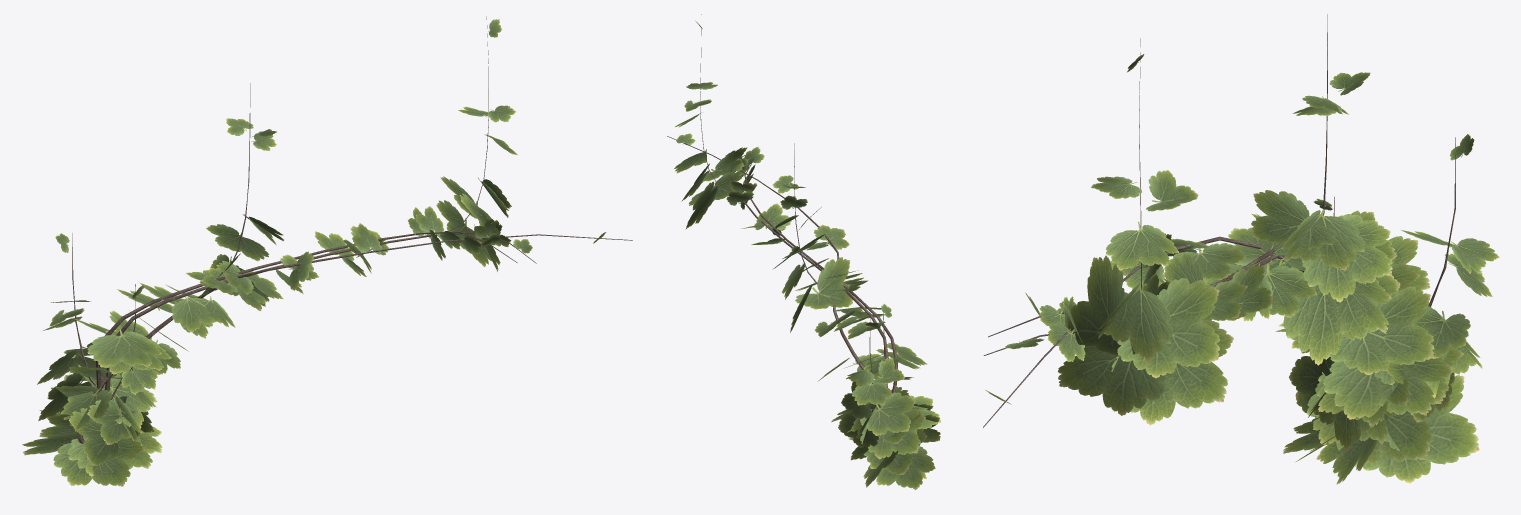
The model's file is Climbing04.fbx.
3 renders of one model, left to right at view 1: azimuth 30°, elevation 25°; view 2: azimuth 150°, elevation 25°; view 3: azimuth 270°, elevation 25°, orthographic. The views are drawn at different scales.
Parts seen in each view (by area): view 1: climbing04; view 2: climbing04; view 3: climbing04.
Boxes of the visible parts, x1,y1,x2,y2 form: climbing04: (22, 16, 632, 486); climbing04: (667, 14, 940, 489); climbing04: (983, 14, 1499, 484).
Bounding box in the file's own units: 901 × 795 × 569.
